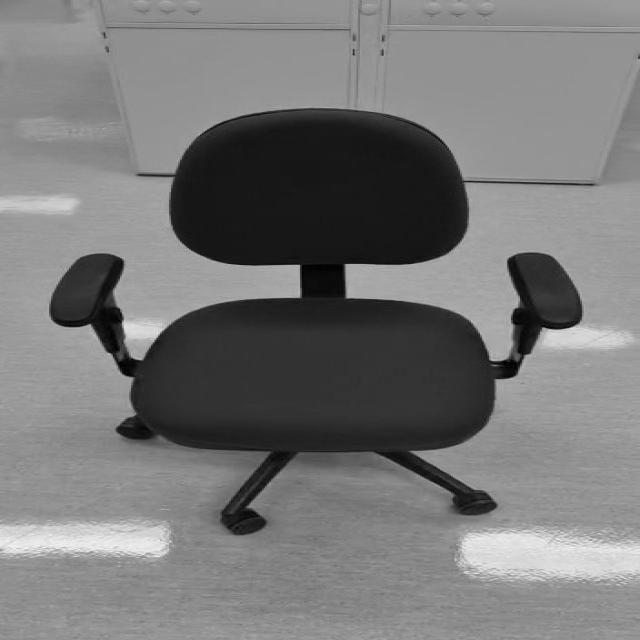chair: (51, 109, 584, 534)
